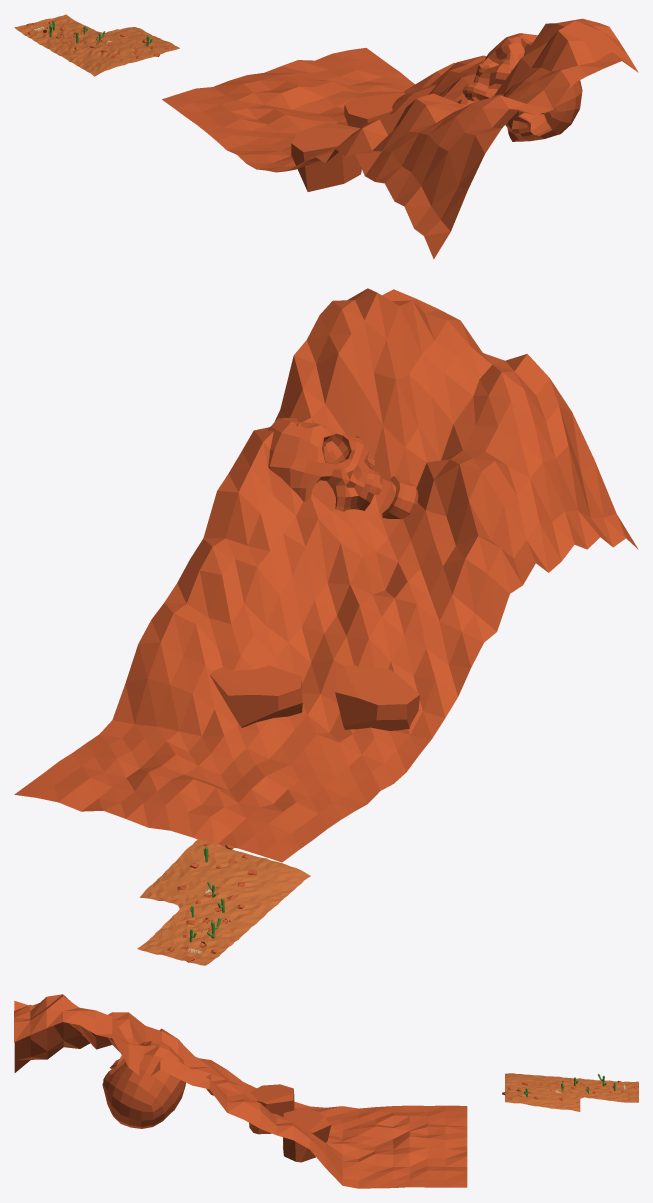
The model's file is Escenario_05.fbx.
The picture shows the model from 3 angles, top to bottom: view 1: azimuth 30°, elevation 25°; view 2: azimuth 150°, elevation 25°; view 3: azimuth 270°, elevation 25°; orthographic projection. The views are drawn at different scales.
Parts seen in each view (by area): view 1: Escenario5Completo; view 2: Escenario5Completo; view 3: Escenario5Completo.
Boxes of the visible parts, x1=… form: Escenario5Completo: x1=14, y1=14, x2=638, y2=259; Escenario5Completo: x1=14, y1=288, x2=638, y2=965; Escenario5Completo: x1=14, y1=994, x2=638, y2=1188.
Bounding box in the file's own units: 24816 × 19986 × 61031.
